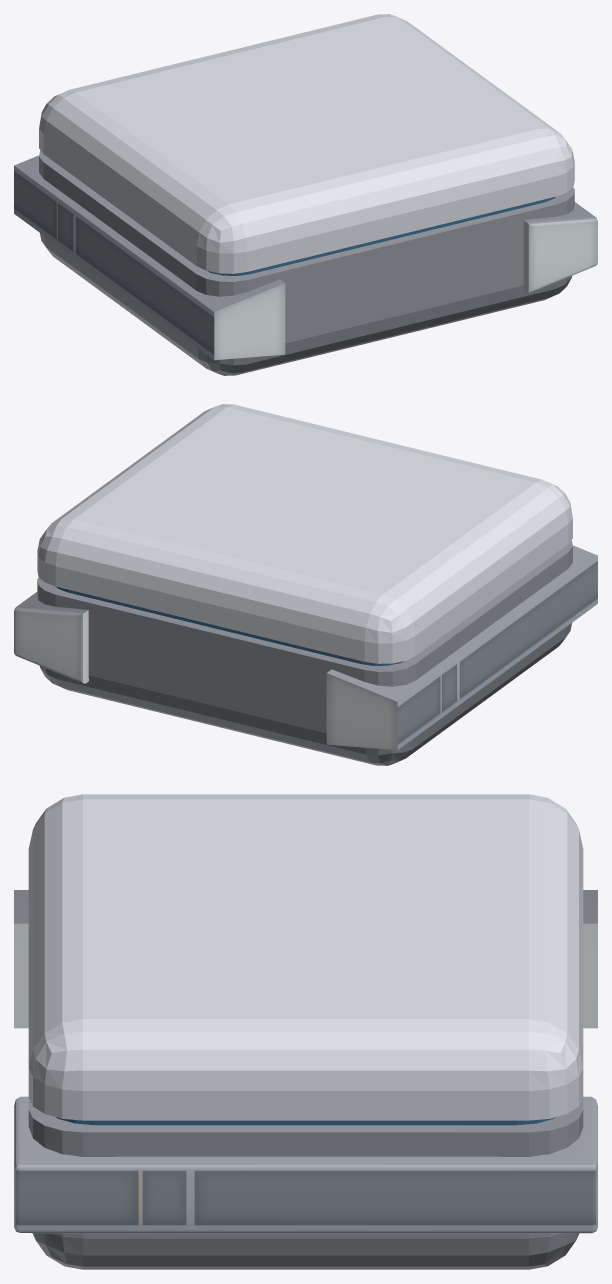
Rendered from Case.fbx.
The picture shows the model from 3 angles, top to bottom: view 1: azimuth 30°, elevation 25°; view 2: azimuth 150°, elevation 25°; view 3: azimuth 270°, elevation 25°; orthographic projection. The views are drawn at different scales.
Parts seen in each view (by area): view 1: pCube9, polySurface4; view 2: pCube9, polySurface4; view 3: pCube9, polySurface4.
Part boxes in pixels (bbox=[...]): pCube9: bbox=[39, 14, 574, 375]; polySurface4: bbox=[14, 155, 597, 360]; pCube9: bbox=[37, 404, 572, 765]; polySurface4: bbox=[14, 545, 597, 750]; pCube9: bbox=[28, 794, 583, 1269]; polySurface4: bbox=[14, 890, 597, 1233].
Size of the model in its own units: 54.82 by 22.88 by 49.31.
1 material, 1 textured.
